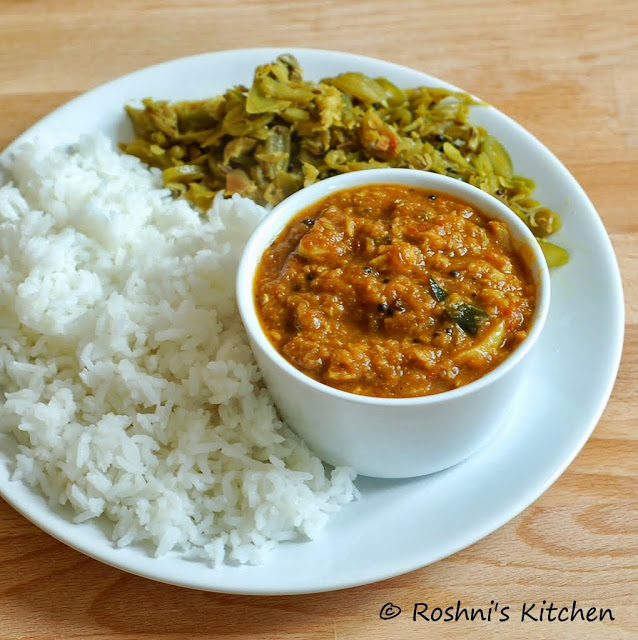curry: (119, 45, 555, 220), (235, 160, 547, 400)
rice: (1, 107, 345, 536)
